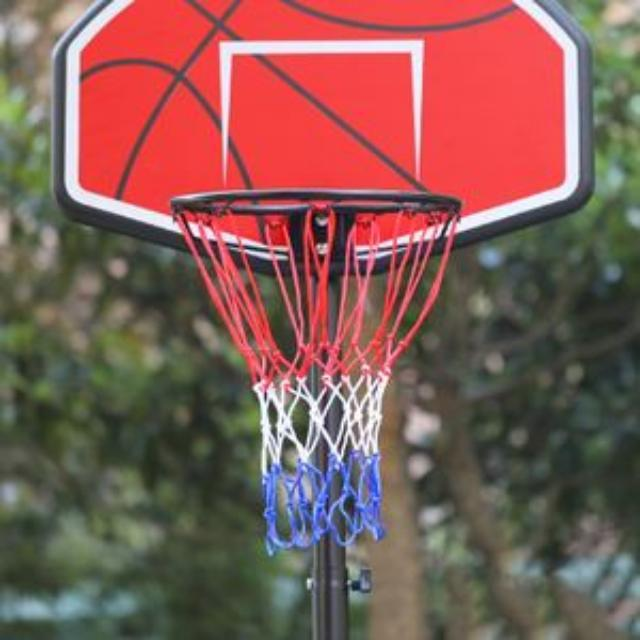rim: (172, 187, 462, 551)
